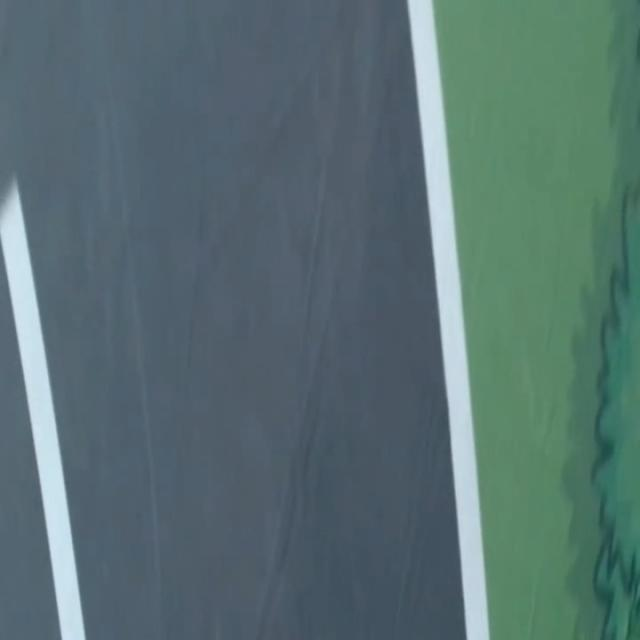center: (0, 180, 84, 639)
right: (407, 0, 489, 639)
